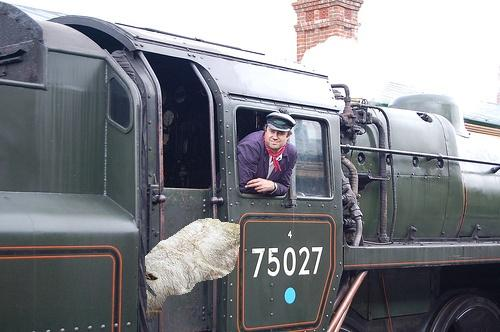tampered: (132, 219, 240, 318)
